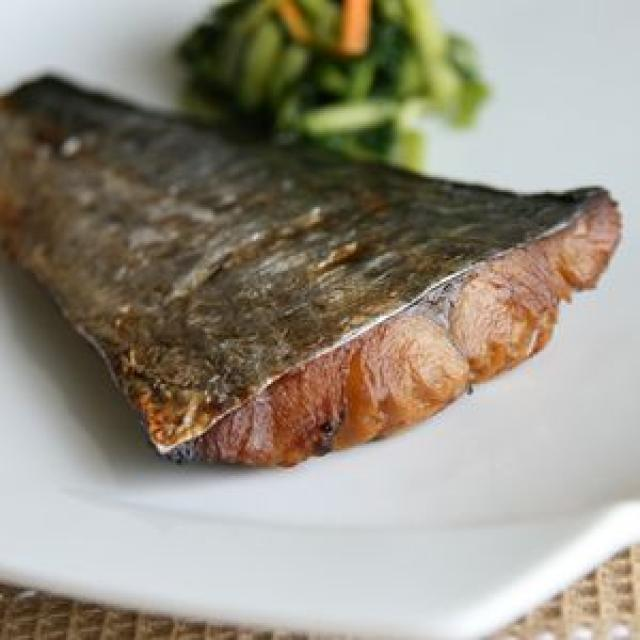熟制海鲜: (0, 64, 623, 476)
